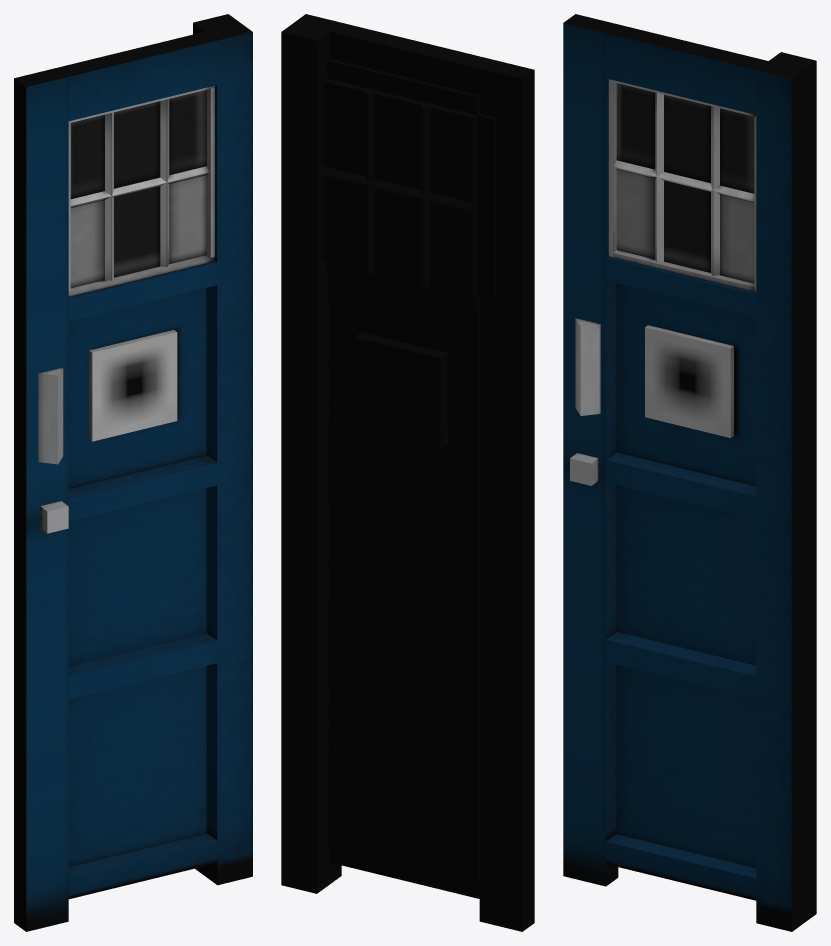
File: copper_door.obj
3 views of the same model, side by side, from view 1: azimuth 30°, elevation 25°; view 2: azimuth 150°, elevation 25°; view 3: azimuth 330°, elevation 25° (orthographic).
Parts seen in each view (by area): view 1: TARDIS000_TARDIS7; view 2: TARDIS000_TARDIS7; view 3: TARDIS000_TARDIS7.
Part boxes in pixels (x1,y1,x2,y2): TARDIS000_TARDIS7: (14, 14, 252, 931); TARDIS000_TARDIS7: (281, 14, 534, 931); TARDIS000_TARDIS7: (563, 14, 816, 931).
Size of the model in its own units: 1.33 by 4.75 by 0.3234.
